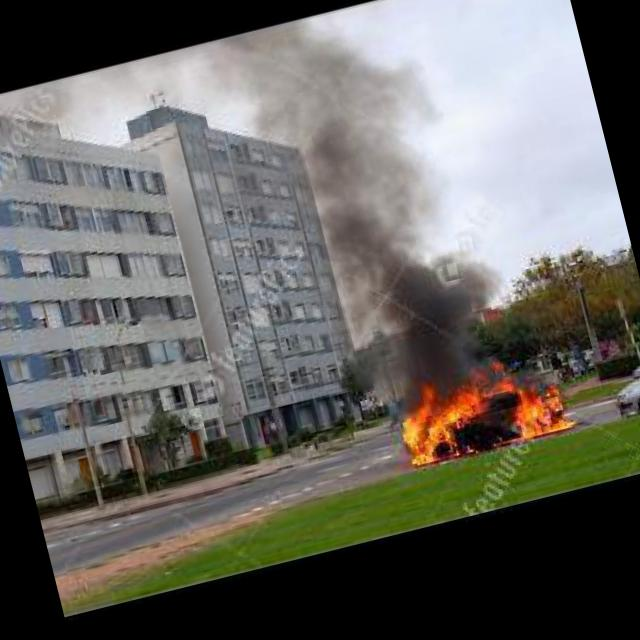fire: (372, 341, 584, 478)
smoke: (266, 13, 504, 417)
